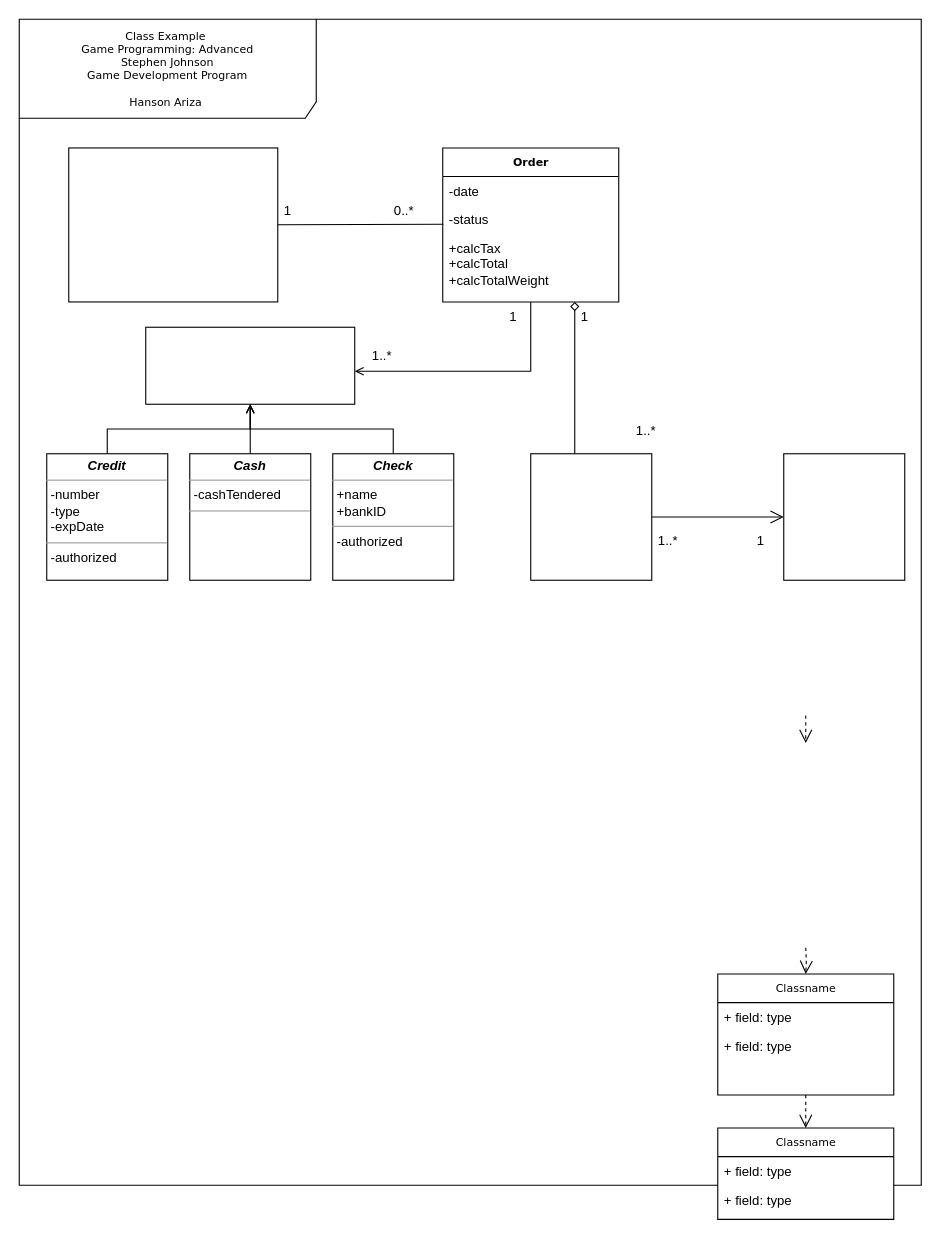
The diagram is 941 pixels wide and 1239 high, and some of its shapes have lost their labels. The shapes that lost their labels are listed below. From the top down, each one's centre as x and y in pixels, then its label:
At point 173,224: "Customer -name -address".
At point 250,365: "Payment +amount".
At point 591,516: "OrderDetail -quantity +taxStatus -CalcSubTotal -CalcWeight".
At point 844,516: "Item +shippingWeight +description -getPriceForQuantity +getWeight".
